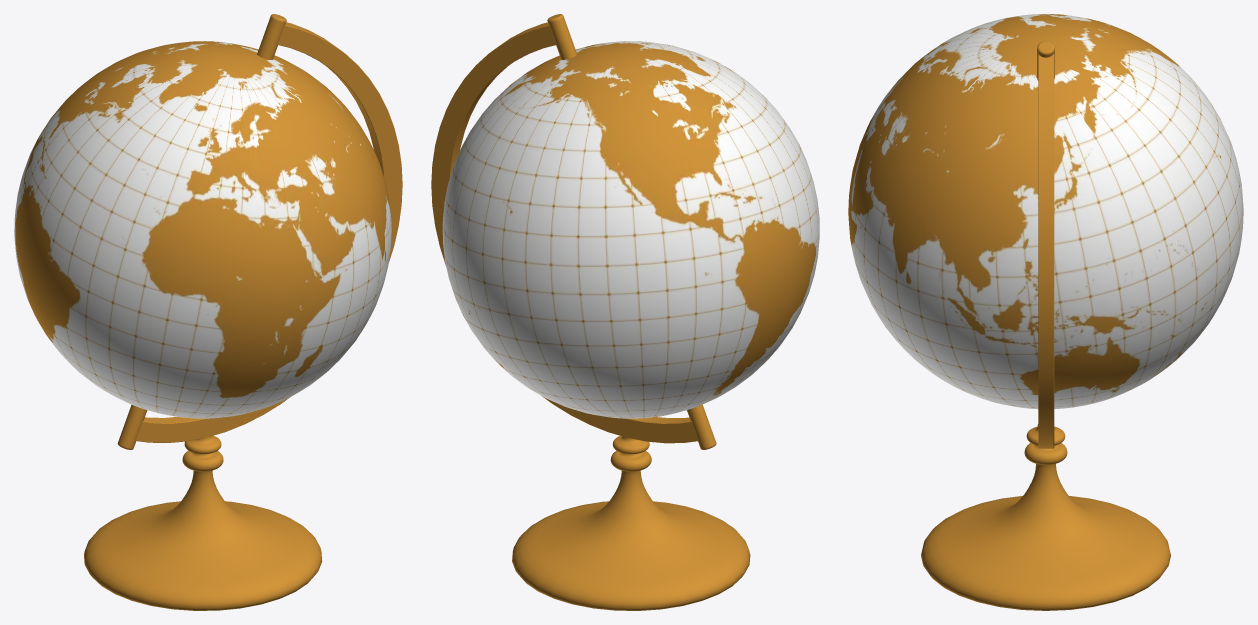
3 views of the same model, side by side, from view 1: azimuth 30°, elevation 25°; view 2: azimuth 150°, elevation 25°; view 3: azimuth 270°, elevation 25° (orthographic). The views are drawn at different scales.
Parts seen in each view (by area): view 1: Object_4; view 2: Object_4; view 3: Object_4.
Part boxes in pixels (x1,y1,x2,y2): Object_4: (14,14,402,610); Object_4: (431,14,819,610); Object_4: (848,14,1243,610).
Size of the model in its own units: 2.2 by 3.12 by 2.
Materials: 1 (1 with a texture image).
